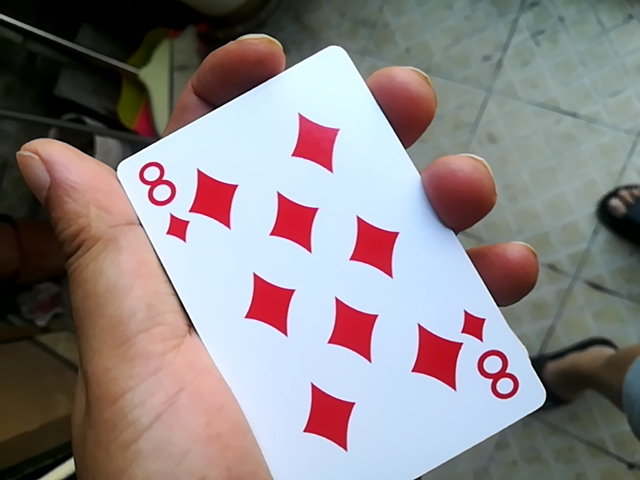fk 8: (102, 46, 529, 477)
